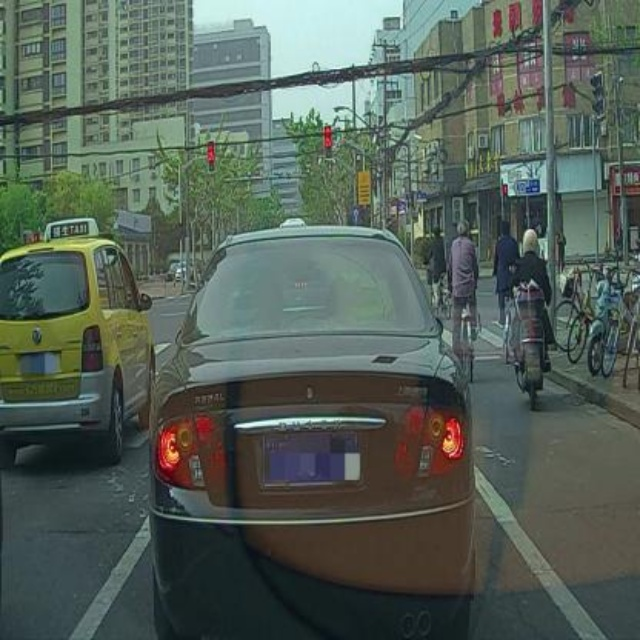Đèn đỏ: (323, 125, 332, 162), (207, 137, 215, 176)
